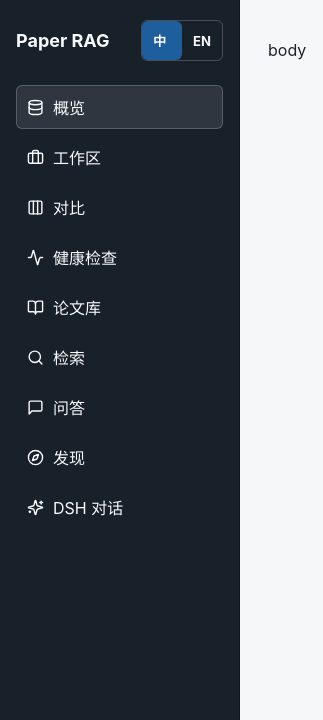
it: Shell › language toggle switches navigation to English
This screenshot has width=323, height=720.
Click the button "EN" at x=202, y=40, box [182,21,222,60]
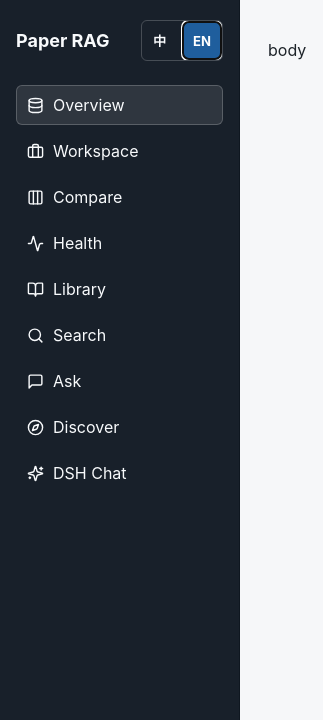
Expected: the navigation bar named "Workbench navigation" is shown, [16,85,223,493]
